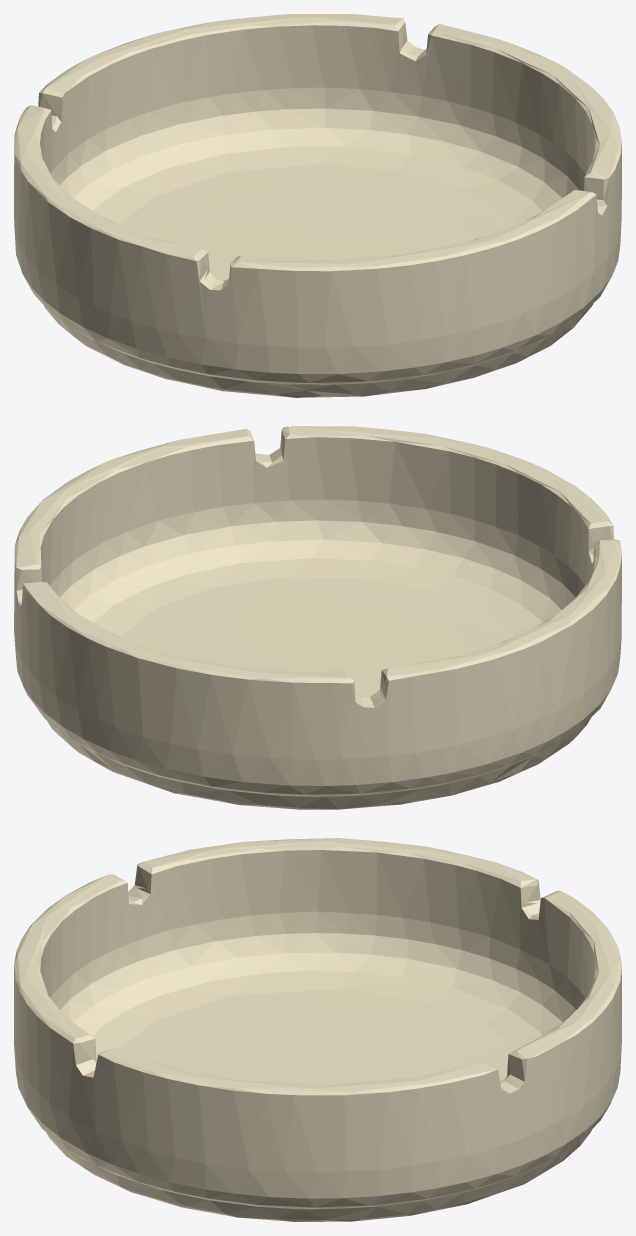
Rendered from 3dda6a1f-5282-4b49-8492-a31405ae2c86.glb.
3 renders of one model, top to bottom at view 1: azimuth 30°, elevation 25°; view 2: azimuth 150°, elevation 25°; view 3: azimuth 270°, elevation 25°, orthographic.
Parts seen in each view (by area): view 1: ashtray_Cylinder.002; view 2: ashtray_Cylinder.002; view 3: ashtray_Cylinder.002.
Boxes of the visible parts, bbox=[...] form: ashtray_Cylinder.002: bbox=[14, 14, 621, 397]; ashtray_Cylinder.002: bbox=[14, 426, 621, 809]; ashtray_Cylinder.002: bbox=[14, 838, 621, 1221].
Size of the model in its own units: 174 by 44.31 by 174.
